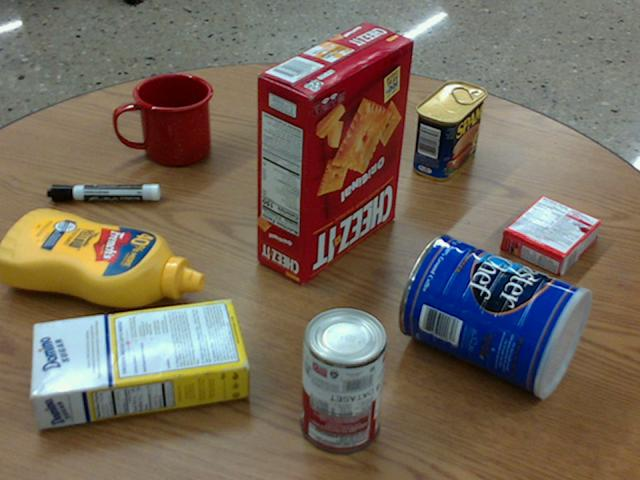cracker_box: (255, 20, 413, 283)
gelatin_box: (500, 194, 600, 274)
large_marker: (48, 183, 160, 201)
master_chef_can: (400, 232, 593, 397)
mug: (115, 74, 212, 167)
mustard_bottle: (0, 207, 204, 308)
potted_meat_can: (414, 80, 486, 180)
sugar_box: (30, 298, 247, 426)
tomato_soup_can: (303, 305, 389, 452)
tuna_fish_can: (289, 74, 354, 147)
